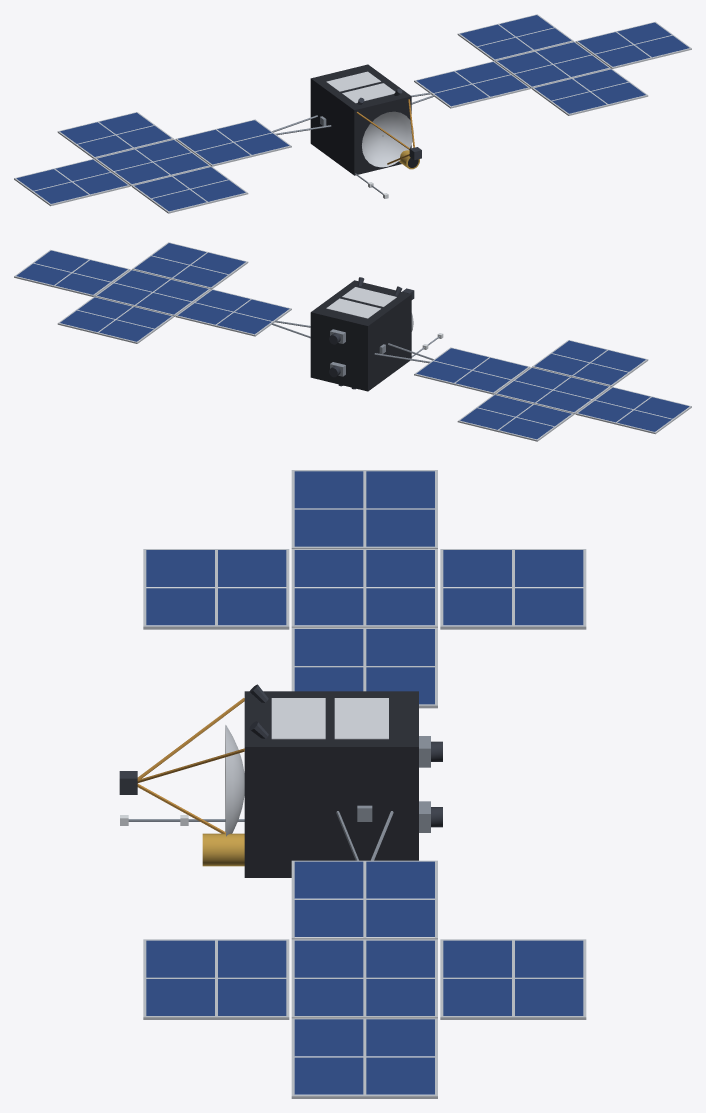
Rendered from psyche.glb.
3 views of the same model, one above another, from view 1: azimuth 30°, elevation 25°; view 2: azimuth 150°, elevation 25°; view 3: azimuth 270°, elevation 25° (orthographic). The views are drawn at different scales.
Parts seen in each view (by area): view 1: solar-panel, body, foil; view 2: solar-panel, body, foil; view 3: solar-panel, body, foil.
Part boxes in pixels (bbox=[...]): solar-panel: bbox=[16, 15, 689, 211]; body: bbox=[14, 14, 691, 213]; foil: bbox=[310, 64, 411, 175]; solar-panel: bbox=[16, 243, 689, 439]; body: bbox=[14, 242, 691, 441]; foil: bbox=[310, 280, 411, 391]; solar-panel: bbox=[146, 471, 583, 1094]; body: bbox=[119, 470, 586, 1098]; foil: bbox=[244, 691, 418, 877].
Bounding box in the file's own units: 24.64 × 2.99 × 7.77.
